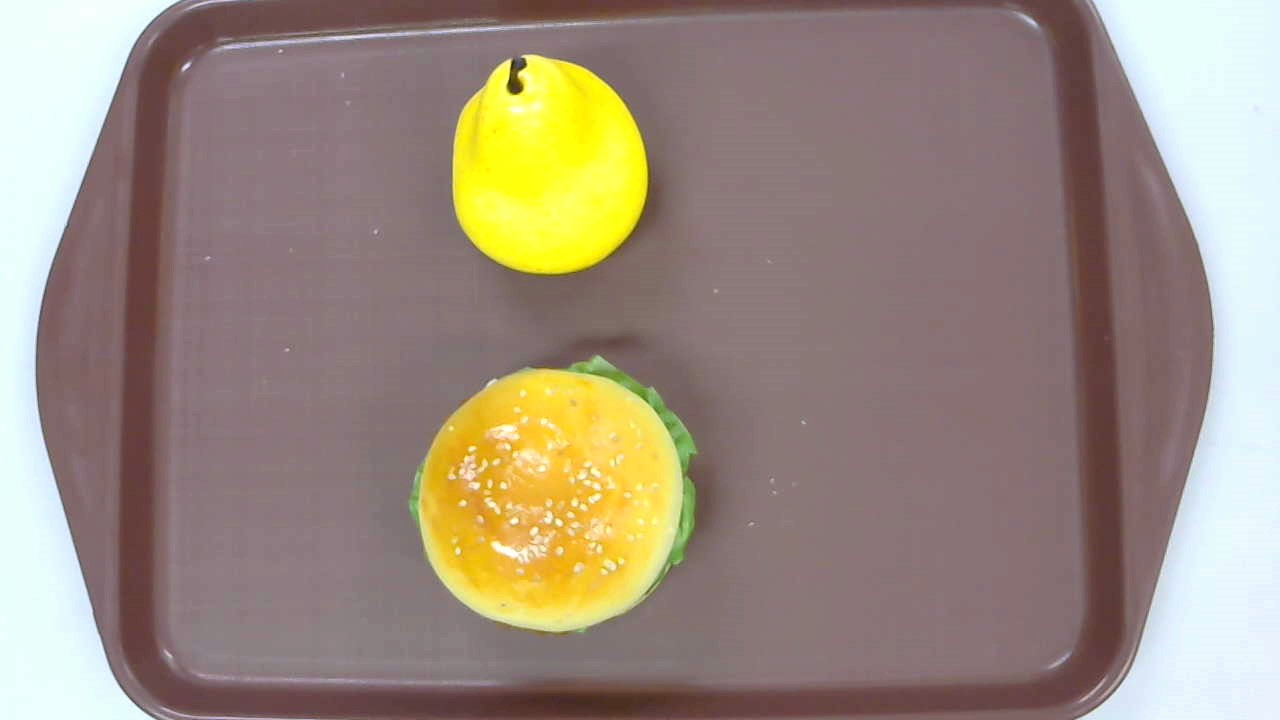hamburger: (408, 355, 701, 635)
yellow pear: (452, 53, 648, 275)
